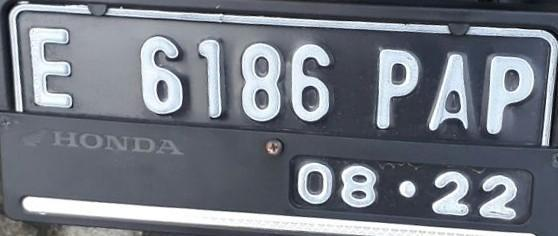clone-license-plate: (7, 1, 556, 227)
